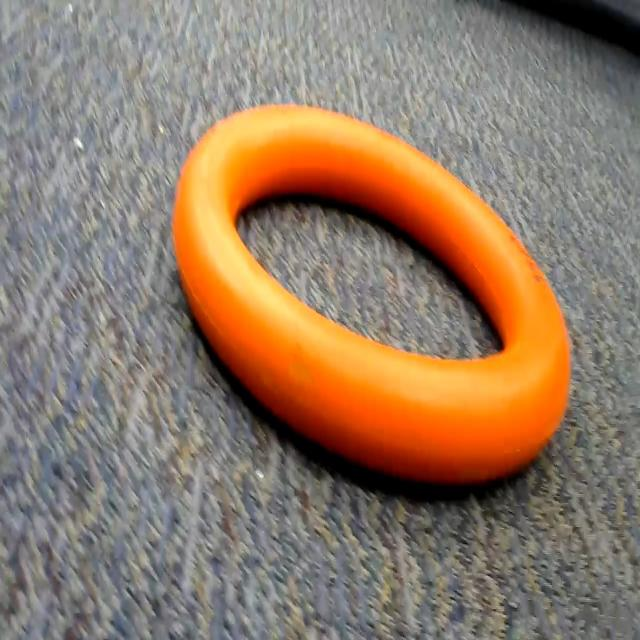note: (152, 100, 587, 514)
